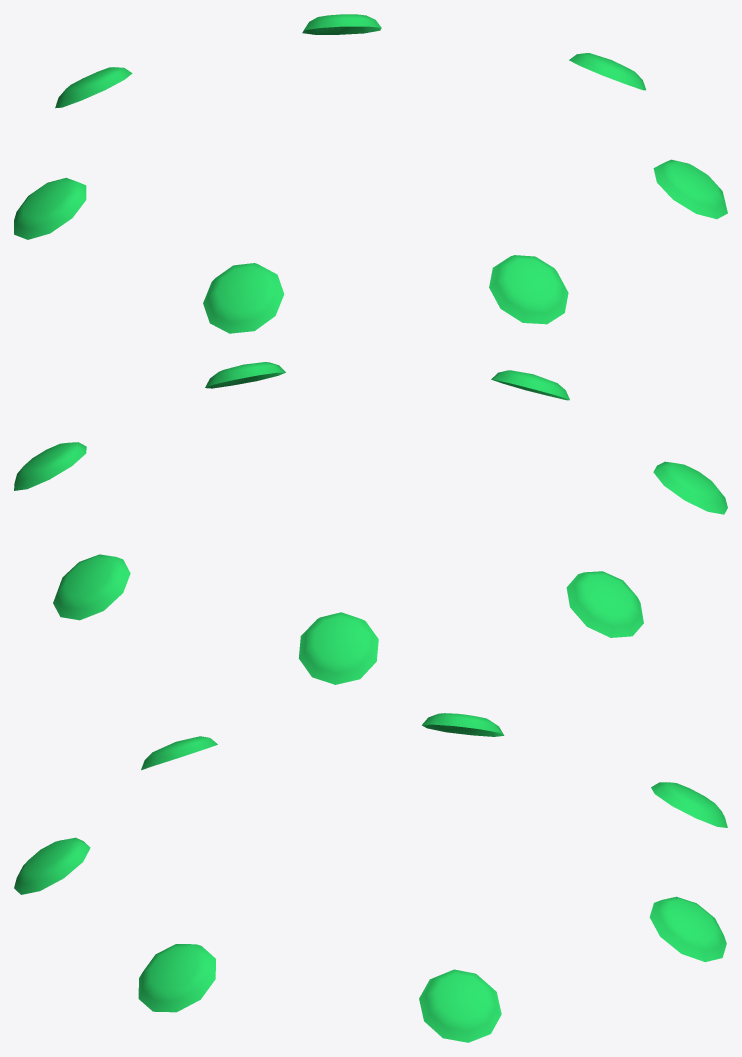
File: SM_Ufo_Emissive.fbx
The picture shows the model from 3 angles, top to bottom: view 1: azimuth 30°, elevation 25°; view 2: azimuth 150°, elevation 25°; view 3: azimuth 270°, elevation 25°; orthographic projection.
Parts seen in each view (by area): view 1: SM_Ufo_Emissive; view 2: SM_Ufo_Emissive; view 3: SM_Ufo_Emissive.
Part boxes in pixels (x1,y1,x2,y2): SM_Ufo_Emissive: (14, 14, 727, 333); SM_Ufo_Emissive: (14, 362, 727, 684); SM_Ufo_Emissive: (14, 713, 727, 1042).
Bounding box in the file's own units: 88.89 × 6.11 × 87.22.
